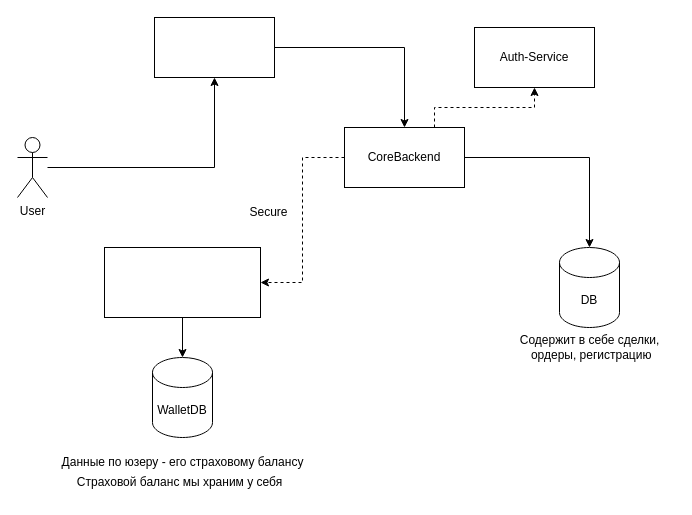
Some shapes in this 692 by 515 pixel diagram are drawn without their labels. Each missing label, with the box of its shape:
Frontend: (154, 16, 274, 78)
WalletBackend: (104, 246, 260, 318)
